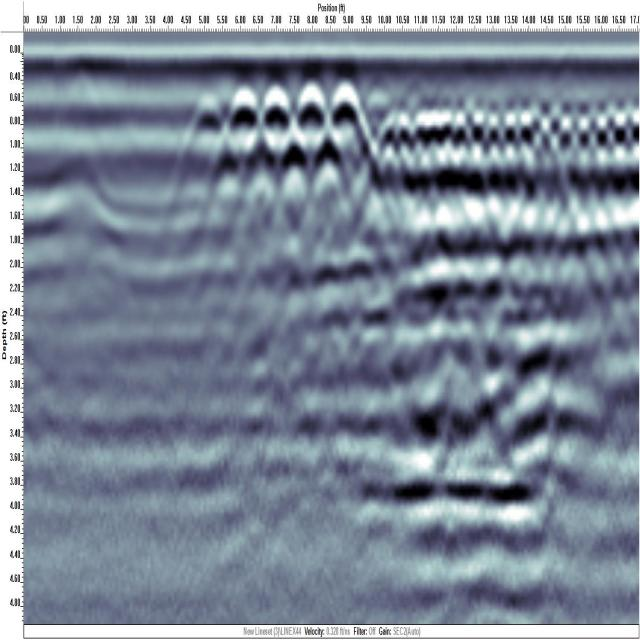hyperbola: (325, 71, 364, 161), (289, 74, 329, 158), (223, 82, 263, 160), (256, 78, 294, 156)
